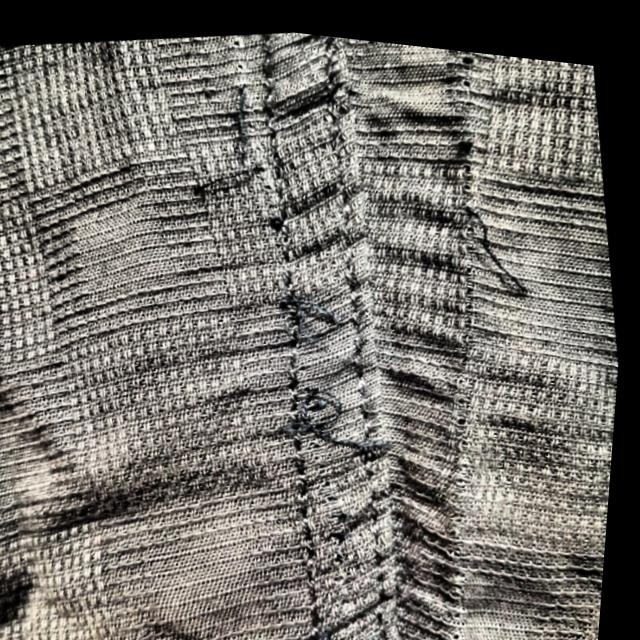Stitch: (256, 347, 410, 490), (427, 163, 559, 316), (169, 58, 292, 221), (250, 262, 366, 366)
